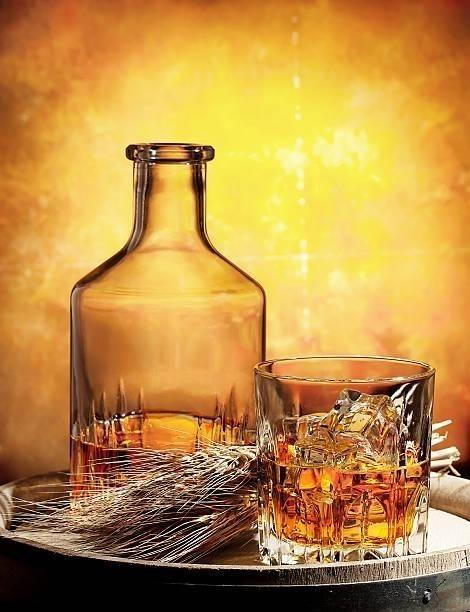bottle-glass: (61, 135, 273, 551)
glass-normal: (252, 352, 438, 567)
